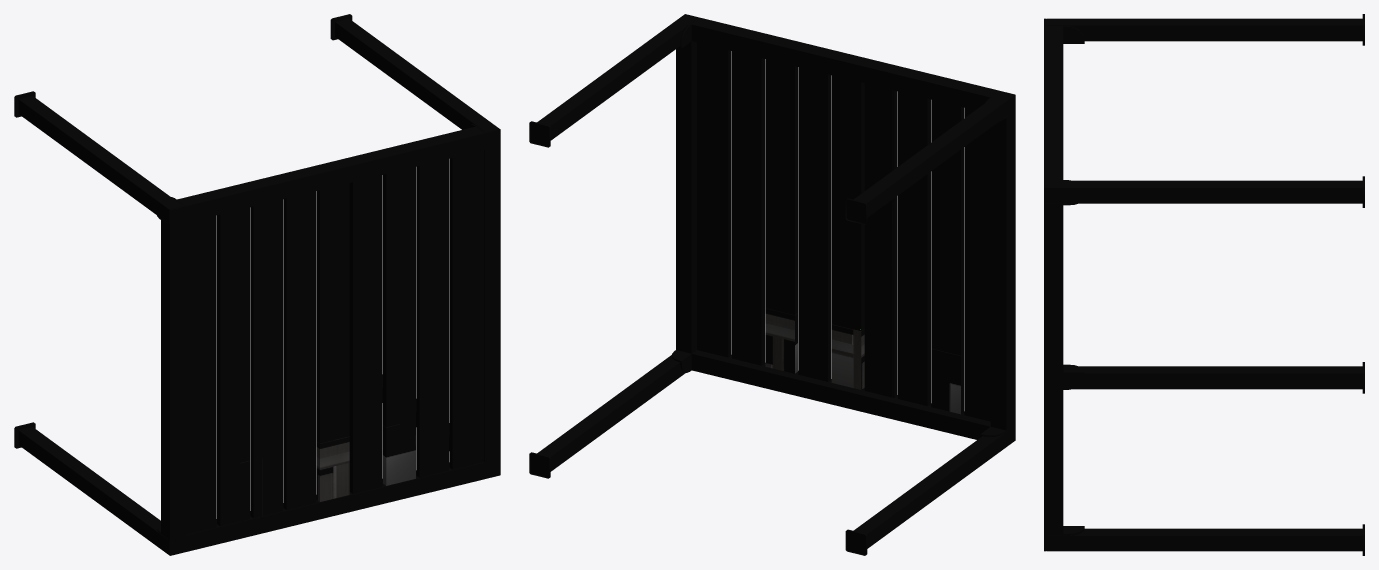
The picture shows the model from 3 angles, left to right: view 1: azimuth 30°, elevation 25°; view 2: azimuth 150°, elevation 25°; view 3: azimuth 270°, elevation 25°; orthographic projection. The views are drawn at different scales.
Size of the model in its own units: 0.6823 by 0.6821 by 0.5354.
